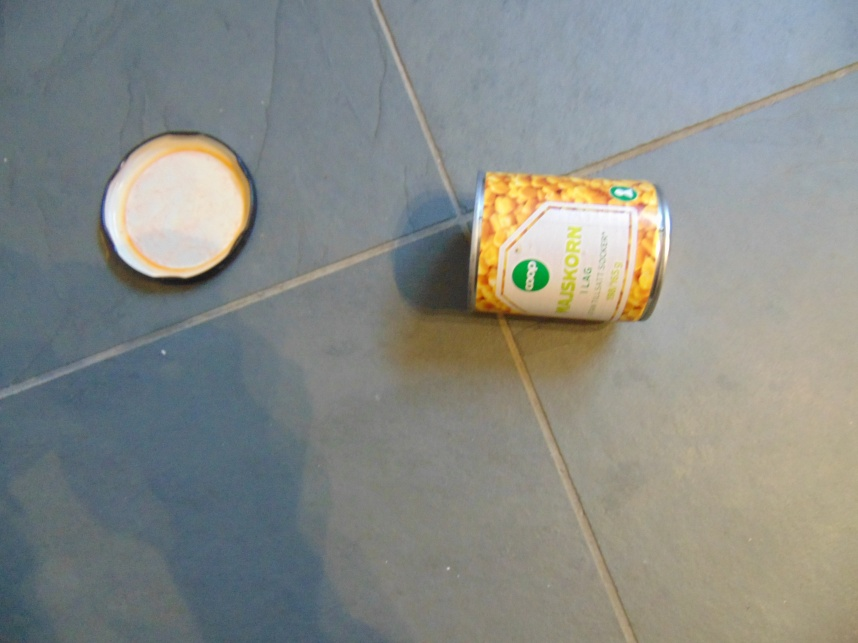metal: (100, 130, 259, 285)
metal_can: (466, 169, 670, 324)
